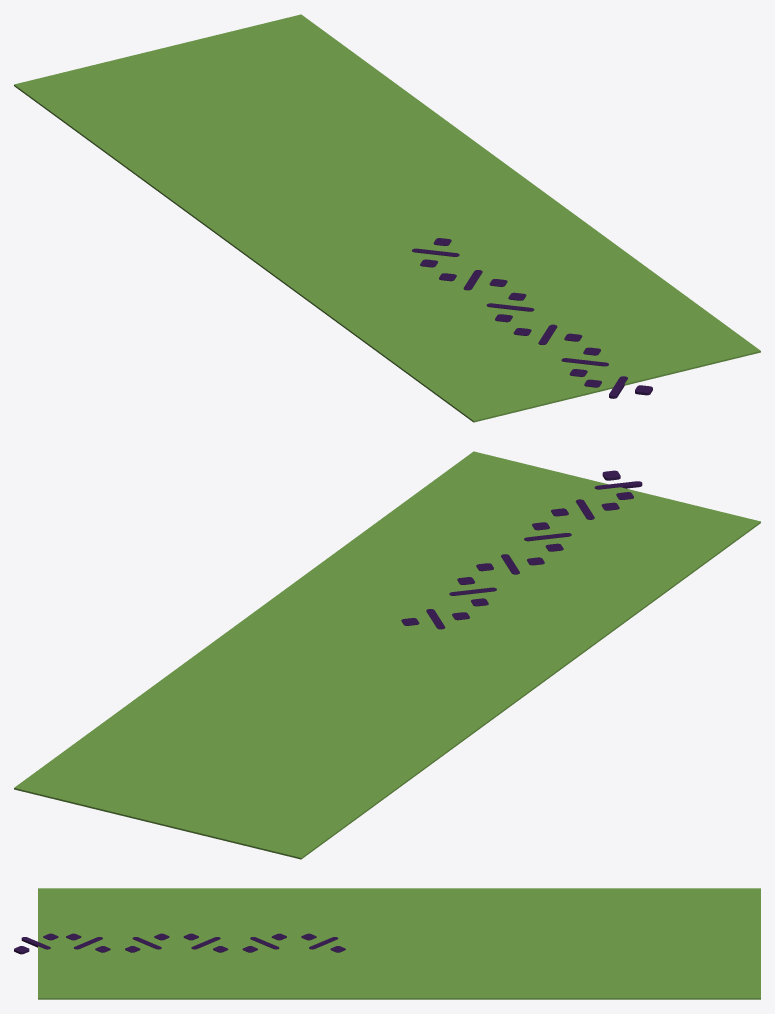
The model's file is Ring Hop.fbx.
3 views of the same model, one above another, from view 1: azimuth 30°, elevation 25°; view 2: azimuth 150°, elevation 25°; view 3: azimuth 270°, elevation 25° (orthographic). The views are drawn at different scales.
Visible parts, largest first — view 1: 05 Ground, 04 Holes; view 2: 05 Ground, 04 Holes; view 3: 05 Ground, 04 Holes, 03 Hole Unit.
Part boxes in pixels (x1,y1,x2,y2): 05 Ground: (14, 14, 760, 422); 04 Holes: (412, 238, 608, 376); 05 Ground: (14, 451, 760, 859); 04 Holes: (401, 499, 619, 629); 05 Ground: (38, 888, 760, 999); 04 Holes: (66, 933, 345, 952); 03 Hole Unit: (14, 933, 58, 954).
Bounding box in the file's own units: 1775 × 177 × 5081.
